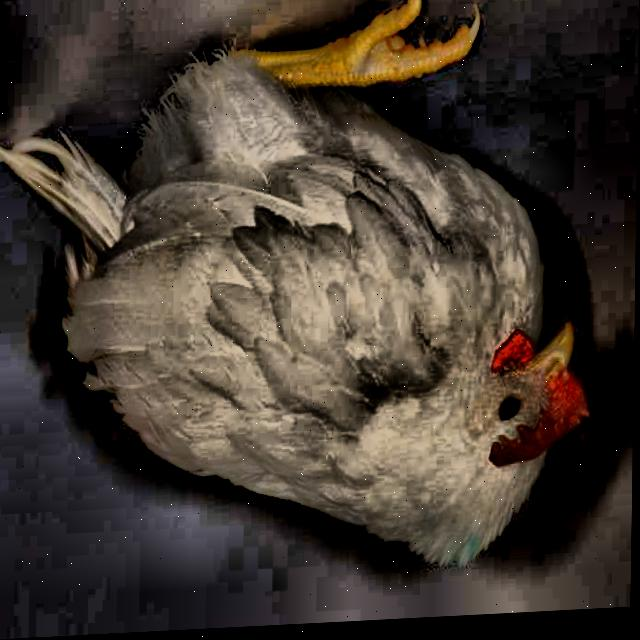Newcastle: (36, 0, 595, 590)
